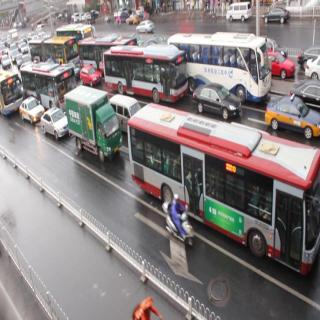BigCar: (126, 108, 314, 270), (169, 32, 274, 101), (69, 82, 127, 172), (102, 39, 173, 103)
Car: (178, 72, 245, 128), (42, 103, 65, 145), (22, 93, 40, 130)
